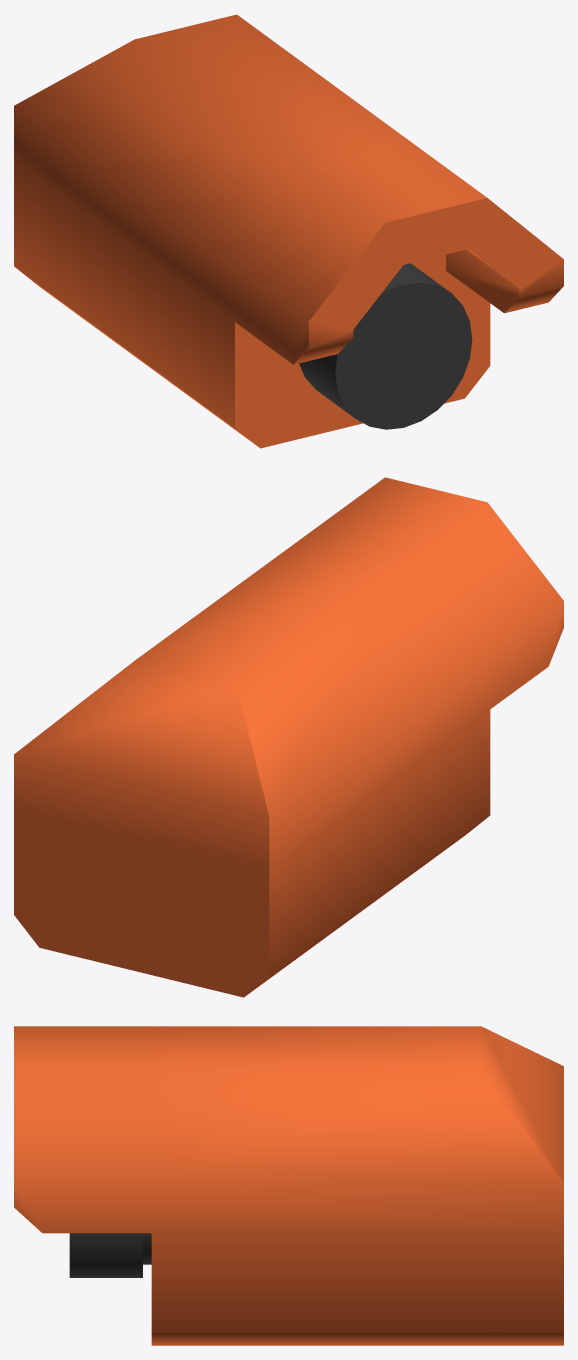
Rendered from Dron_Base_v2.fbx.
The picture shows the model from 3 angles, top to bottom: view 1: azimuth 30°, elevation 25°; view 2: azimuth 150°, elevation 25°; view 3: azimuth 270°, elevation 25°; orthographic projection. The views are drawn at different scales.
Visible parts, largest first — view 1: Base; view 2: Base; view 3: Base.
Part boxes in pixels (box(x1,y1,x2,y2)): Base: box(14, 14, 563, 448); Base: box(14, 477, 563, 997); Base: box(14, 1026, 563, 1345).
Size of the model in its own units: 100 by 100 by 200.
